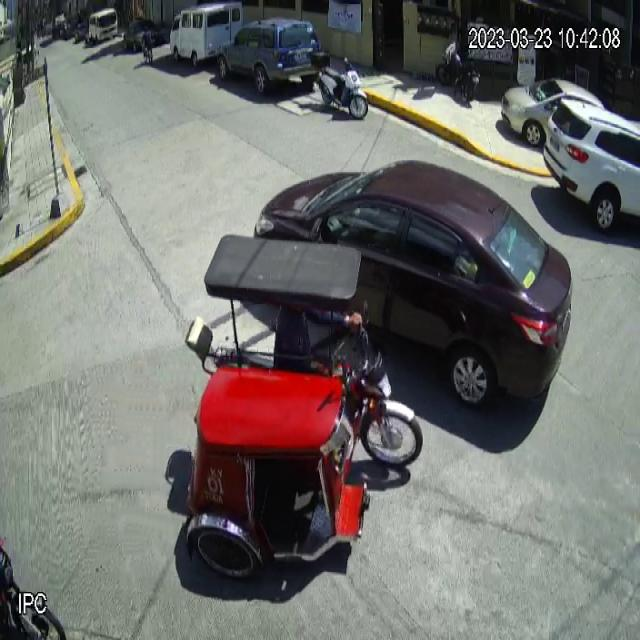Car: (252, 152, 578, 418), (216, 16, 323, 96), (501, 75, 603, 154)
Motorcycle: (312, 50, 368, 121)
Tricycle: (186, 230, 421, 590)
Van: (169, 0, 242, 69)
